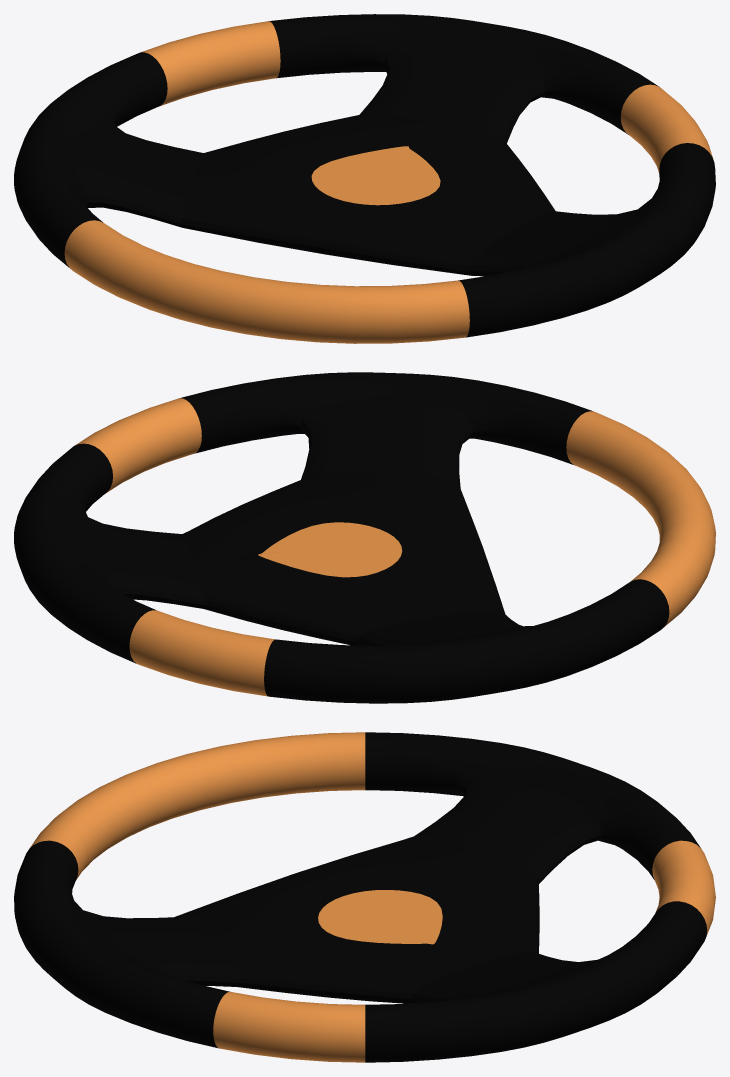
Rendered from SteeringWheel.fbx.
The picture shows the model from 3 angles, top to bottom: view 1: azimuth 30°, elevation 25°; view 2: azimuth 150°, elevation 25°; view 3: azimuth 270°, elevation 25°; orthographic projection.
Visible parts, largest first — view 1: Torus; view 2: Torus; view 3: Torus.
Part boxes in pixels (<box>): Torus: <box>14,14,715,343</box>; Torus: <box>14,372,715,703</box>; Torus: <box>14,732,715,1062</box>.
Bounding box in the file's own units: 210 × 20.11 × 211.
